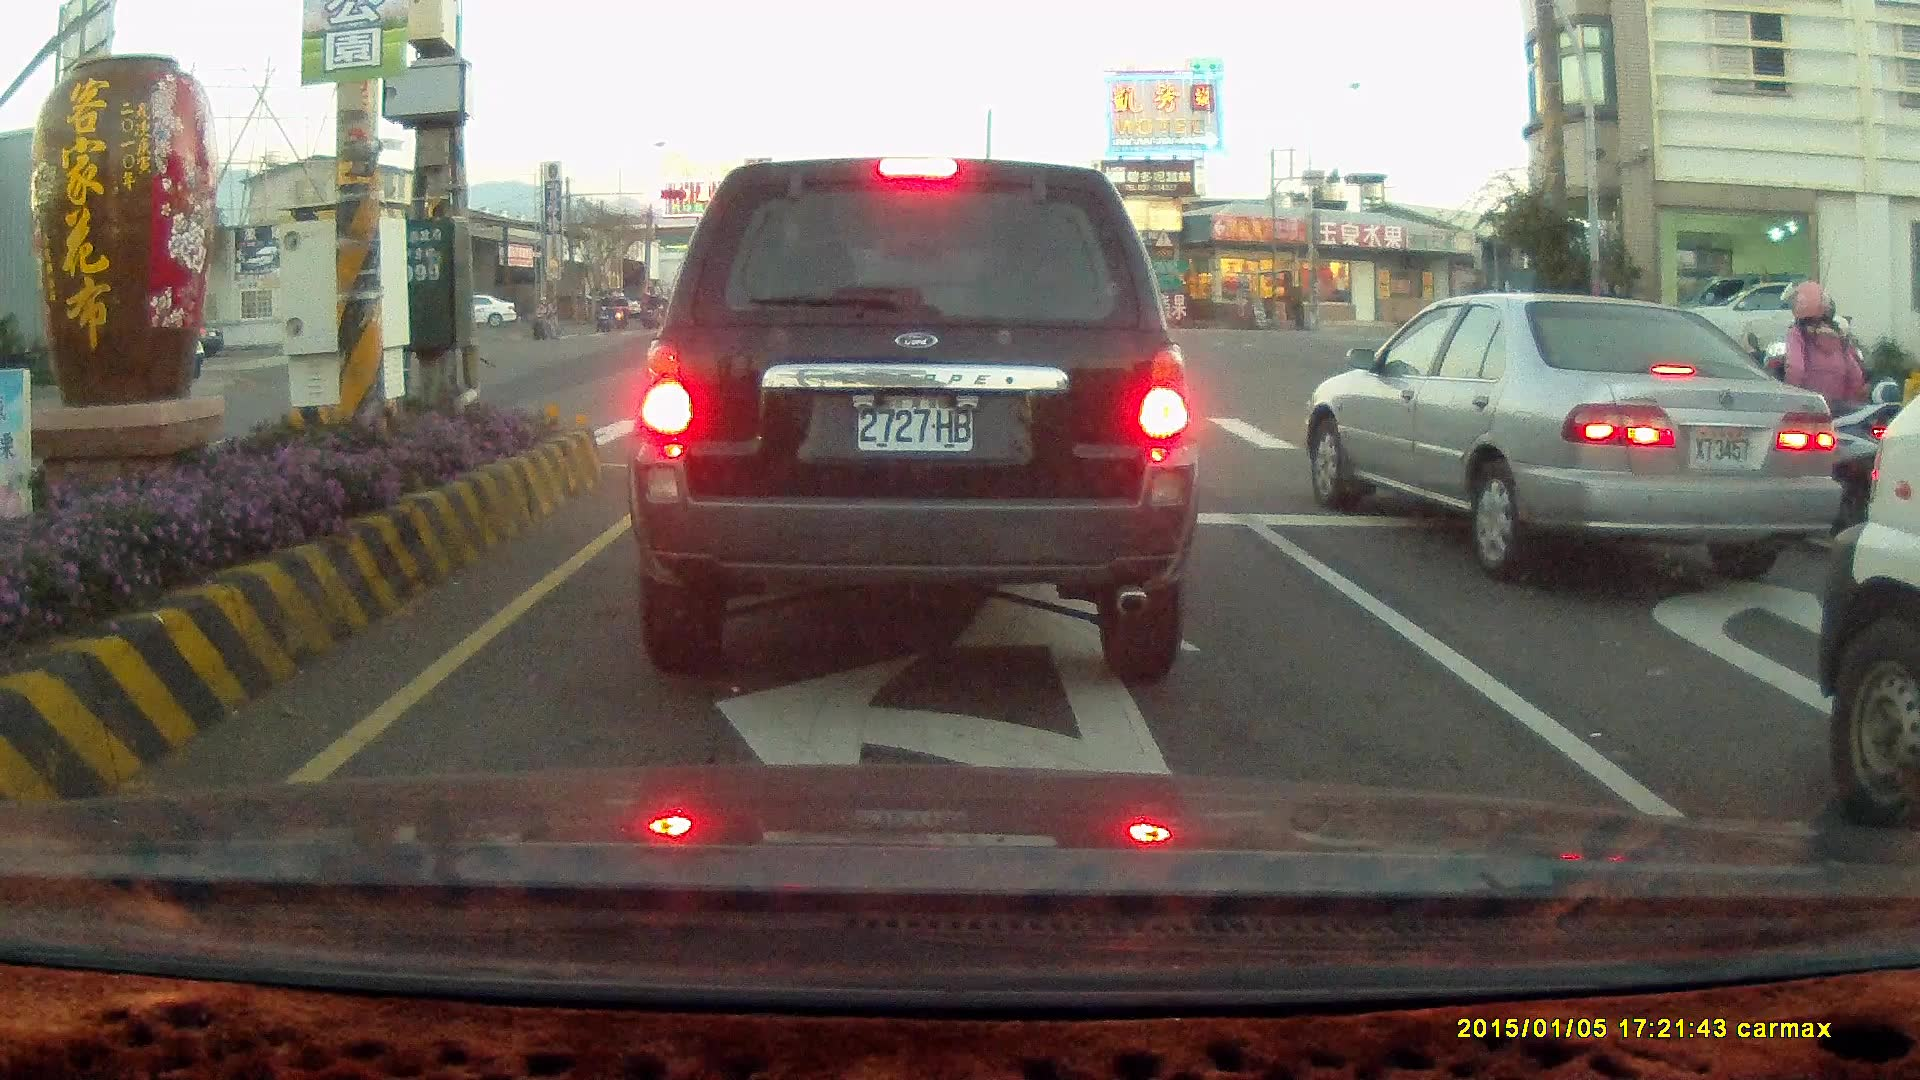rider: (1696, 274, 1915, 547), (527, 290, 562, 337), (593, 290, 614, 331), (616, 292, 637, 328), (643, 289, 664, 326)
vehicle: (625, 154, 1199, 684), (1301, 290, 1837, 583), (1315, 293, 1847, 579), (1809, 391, 1920, 838), (1653, 274, 1851, 368), (1668, 275, 1823, 373)
